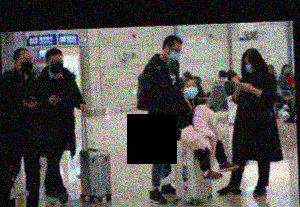with_mask: (16, 53, 34, 74), (47, 56, 64, 73), (167, 44, 183, 62), (183, 80, 199, 97), (244, 58, 256, 73)
without_mask: (285, 66, 291, 73)
